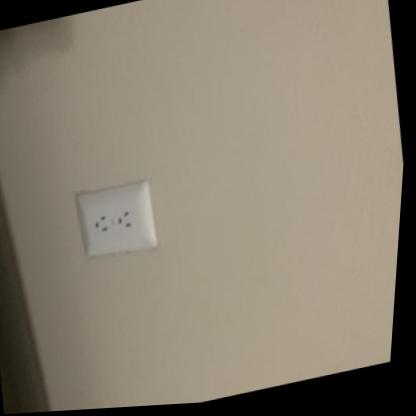OUTLET: (73, 178, 162, 265)
